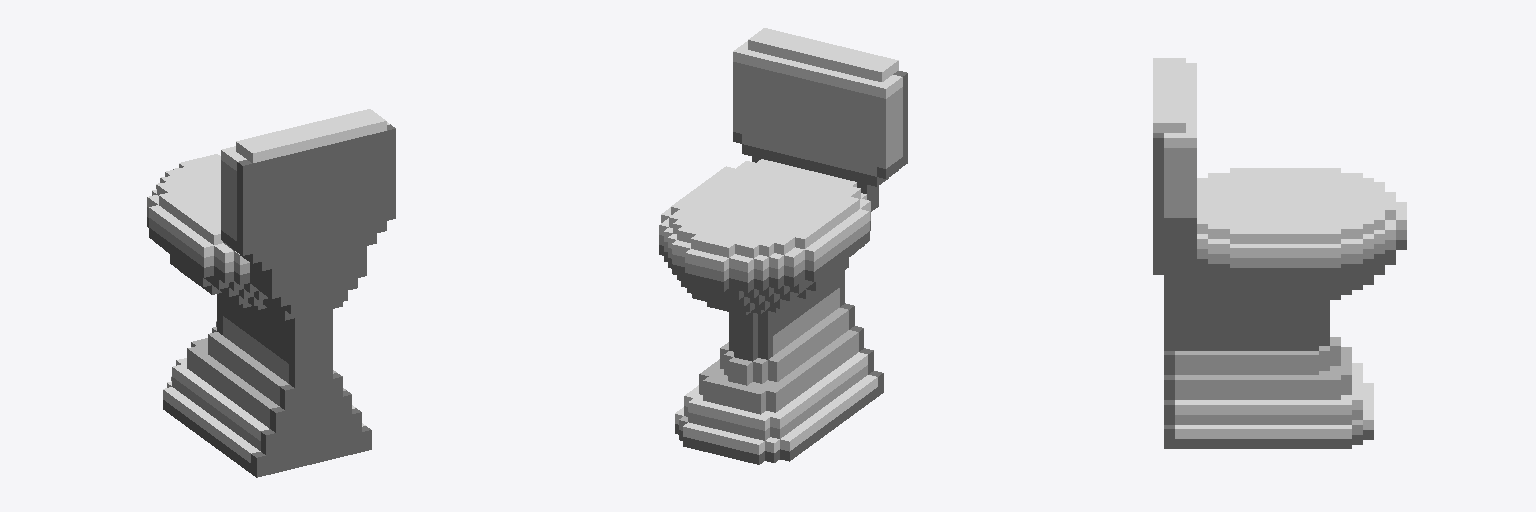
The picture shows the model from 3 angles: view 1: azimuth 30°, elevation 25°; view 2: azimuth 150°, elevation 25°; view 3: azimuth 270°, elevation 25°; orthographic projection.
Visible parts, largest first — view 1: privada; view 2: privada; view 3: privada.
Part boxes in pixels (x1,y1,x2,y2): privada: (147, 109, 395, 477); privada: (659, 28, 907, 464); privada: (1153, 58, 1406, 448).
Bounding box in the file's own units: 16 × 33 × 23.
1 materials, 1 textured.